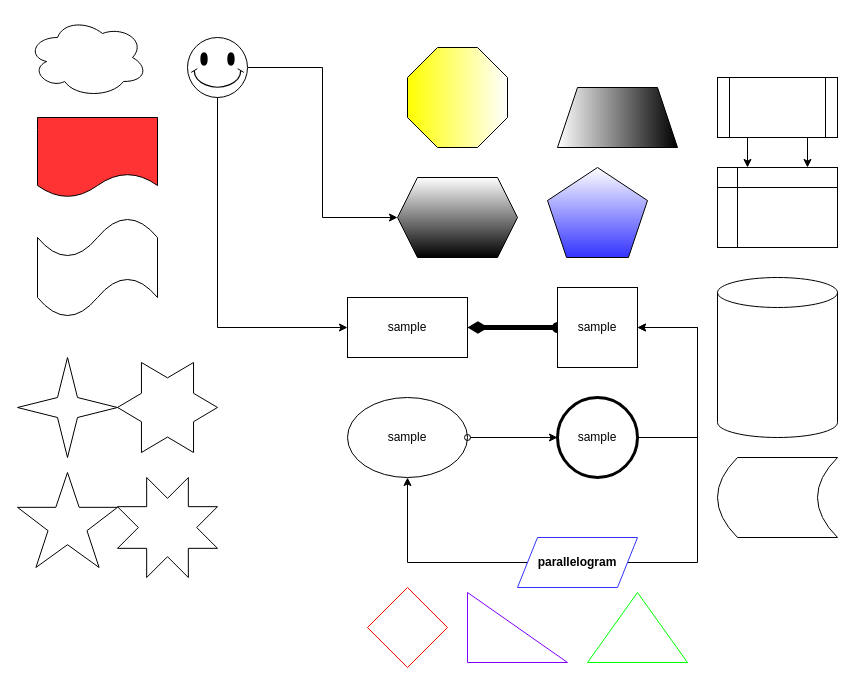
The diagram is 855 pixels wide and 685 high, and some of its shapes have lost their labels. The centre of each missing label's shape, as x and y in pixels:
Cylinder: point (777, 357)
diamond: point (407, 627)
Document: point (97, 157)
